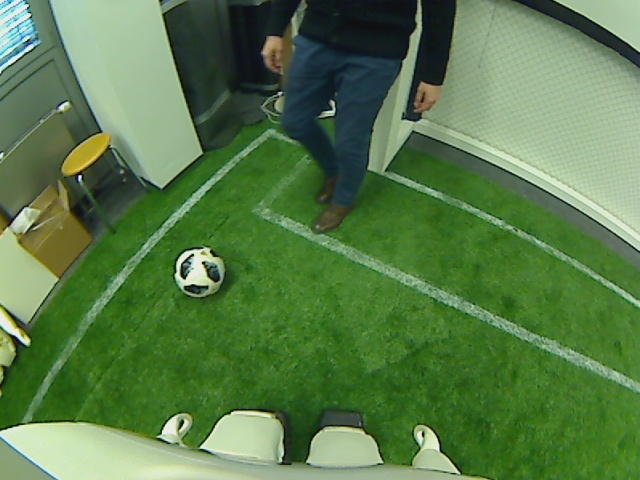ball: (173, 246, 225, 297)
